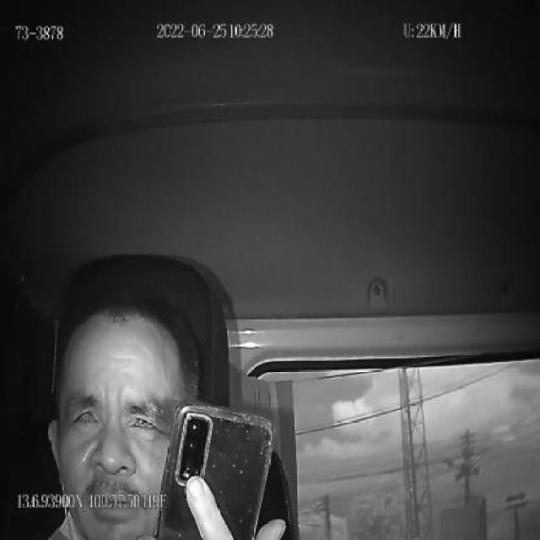phone: (160, 400, 274, 540)
